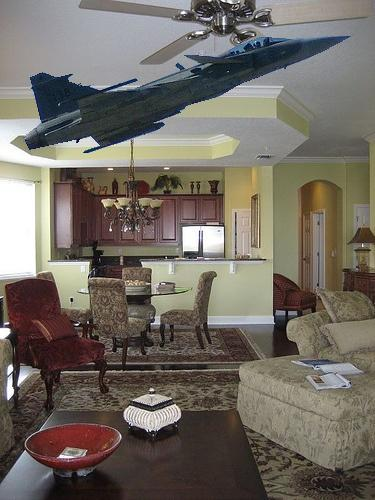tampered: (24, 35, 355, 153)
